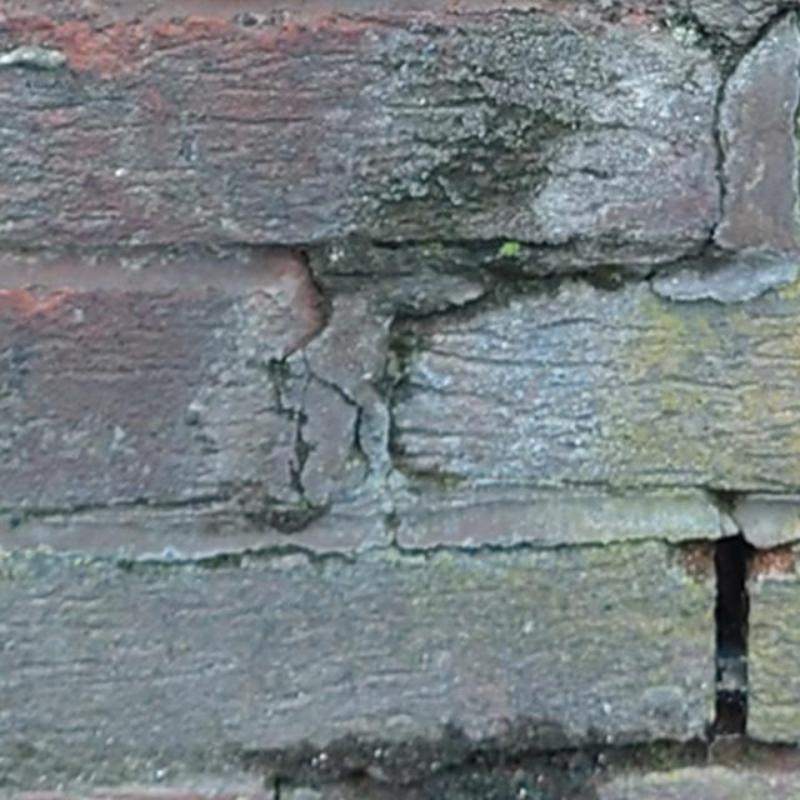crack: (642, 0, 798, 309), (299, 338, 375, 478), (714, 538, 752, 734)
